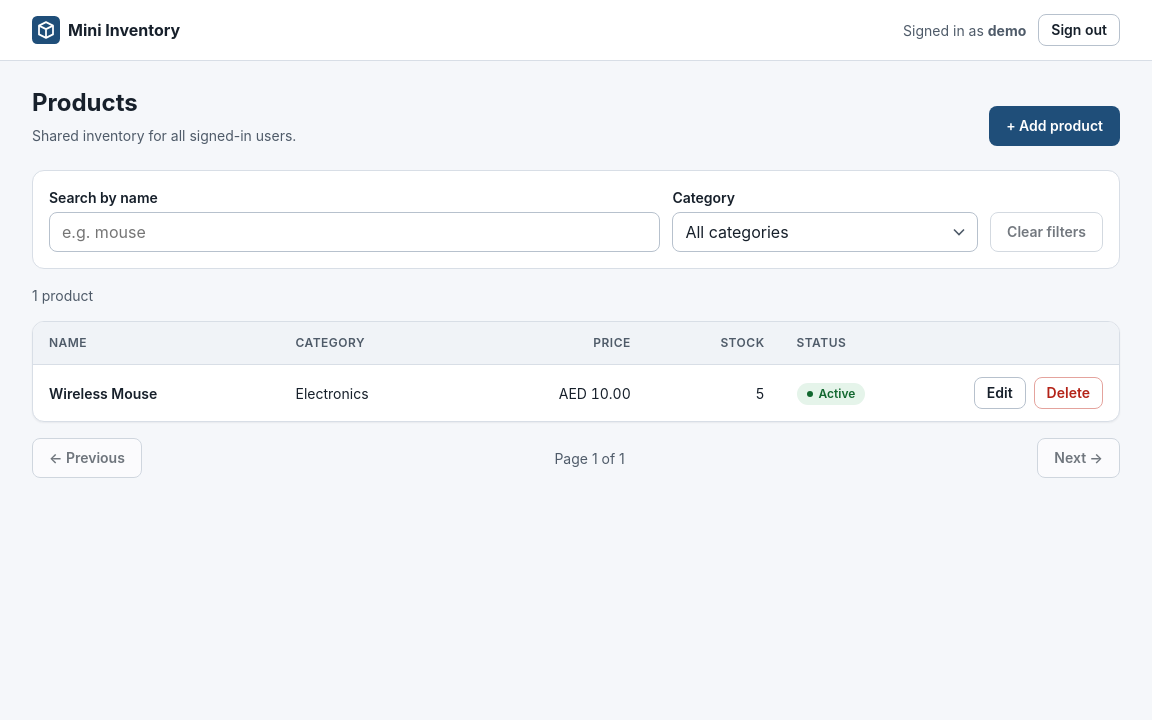
delete product › names the product and makes no request when cancelled; focus returns
Click the button with aria-label "Delete Wireless Mouse": (1068, 393) [1034,377,1103,409]
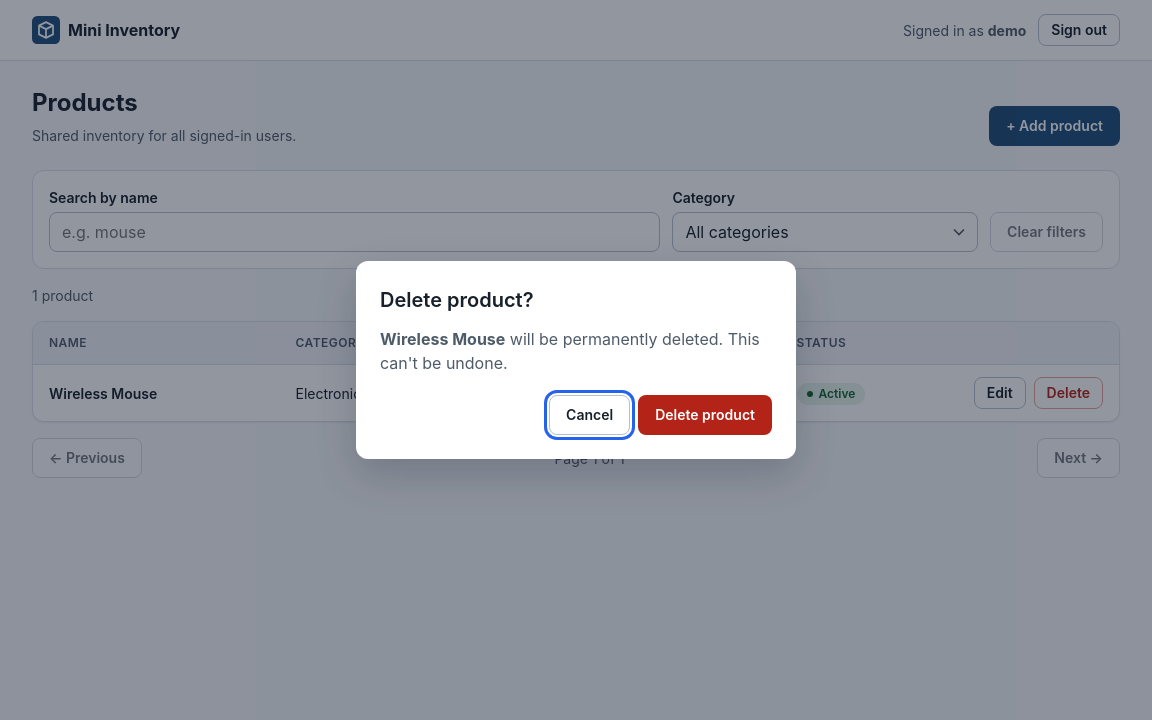
Now the dialog "Delete product?" shows "Wireless Mouse will be permanently deleted. This can't be undone.", box [356,261,796,459]
Click the button "Cancel": (590, 415) [549,395,630,435]
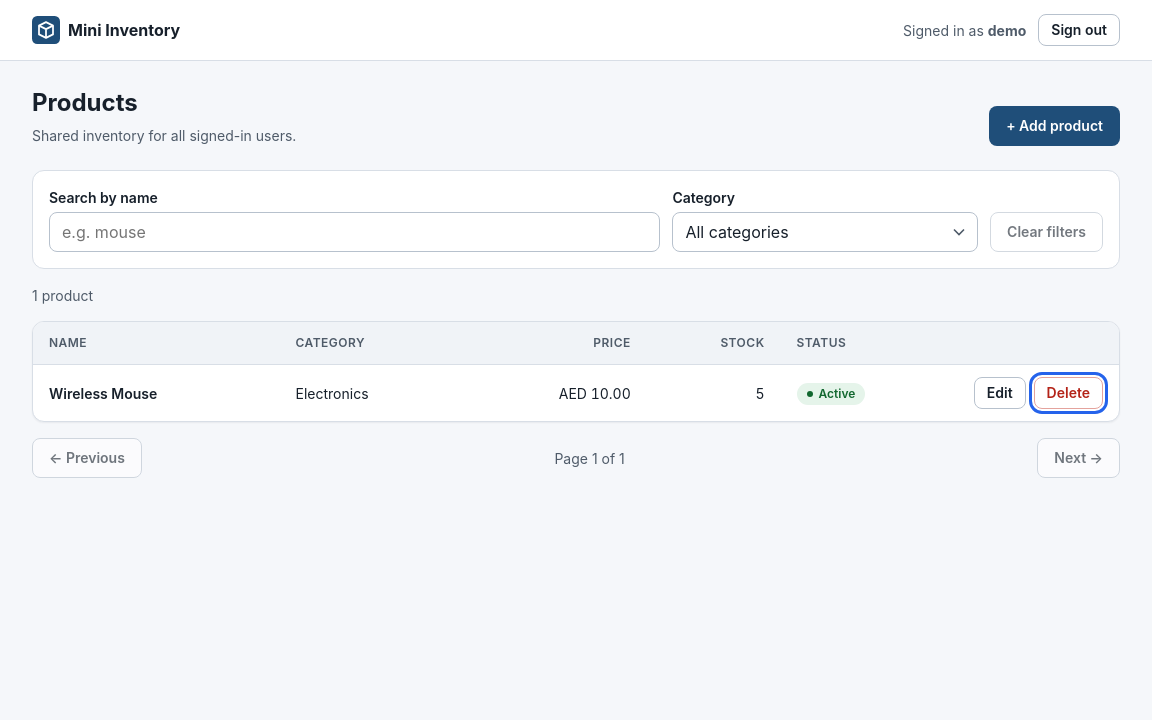
Now the dialog is gone
